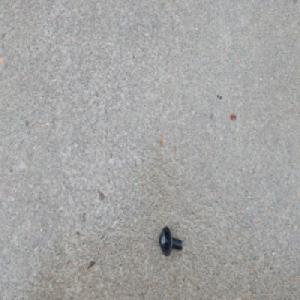BoltWasher: (158, 225, 182, 257)
